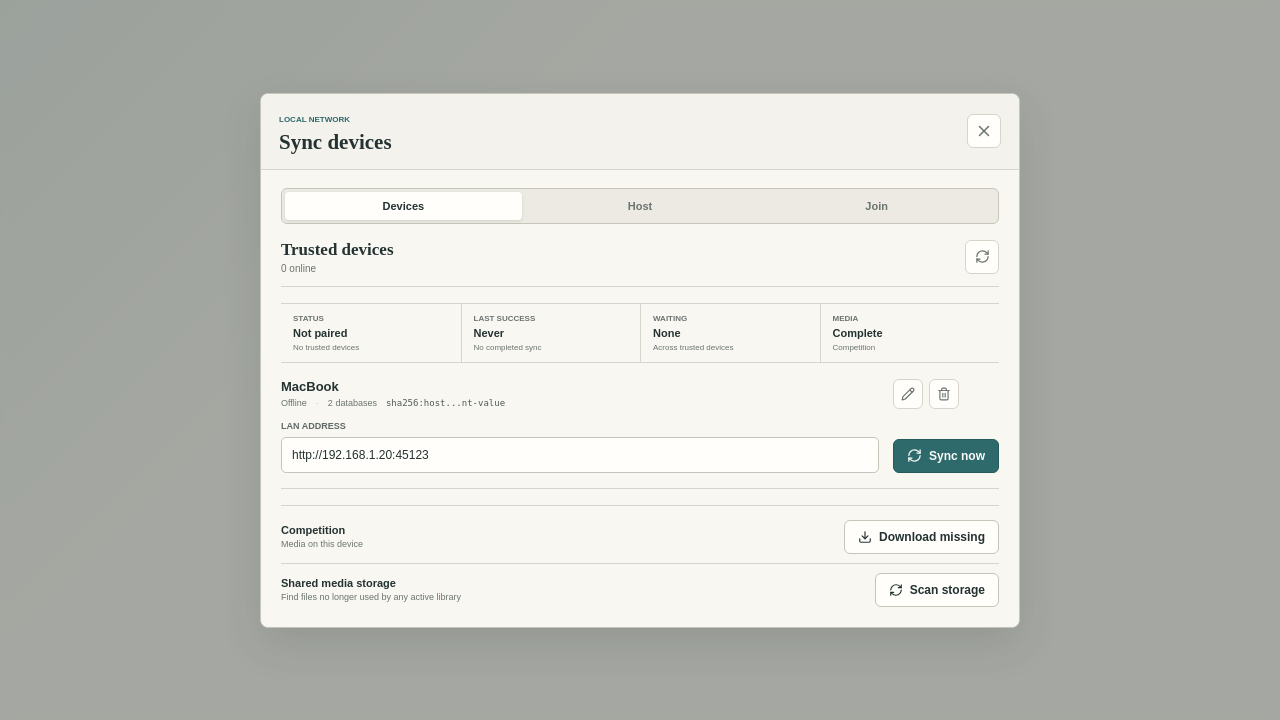
Test case: sync dialog › downloads all missing media for the active database
The image size is (1280, 720).
Click the button "Download missing". click: (922, 536)
box: [844,520,999,554]
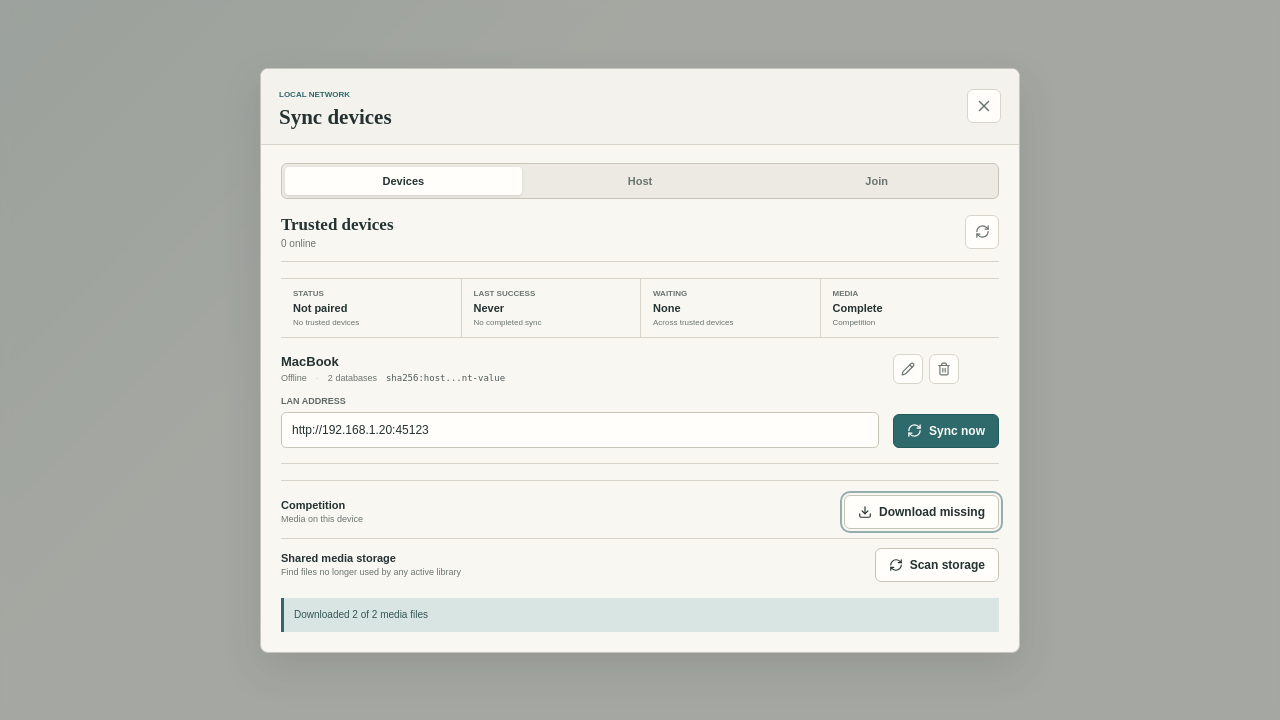
expect the text "Downloaded 2 of 2 media files" is shown: met, box [294,609,428,620]
